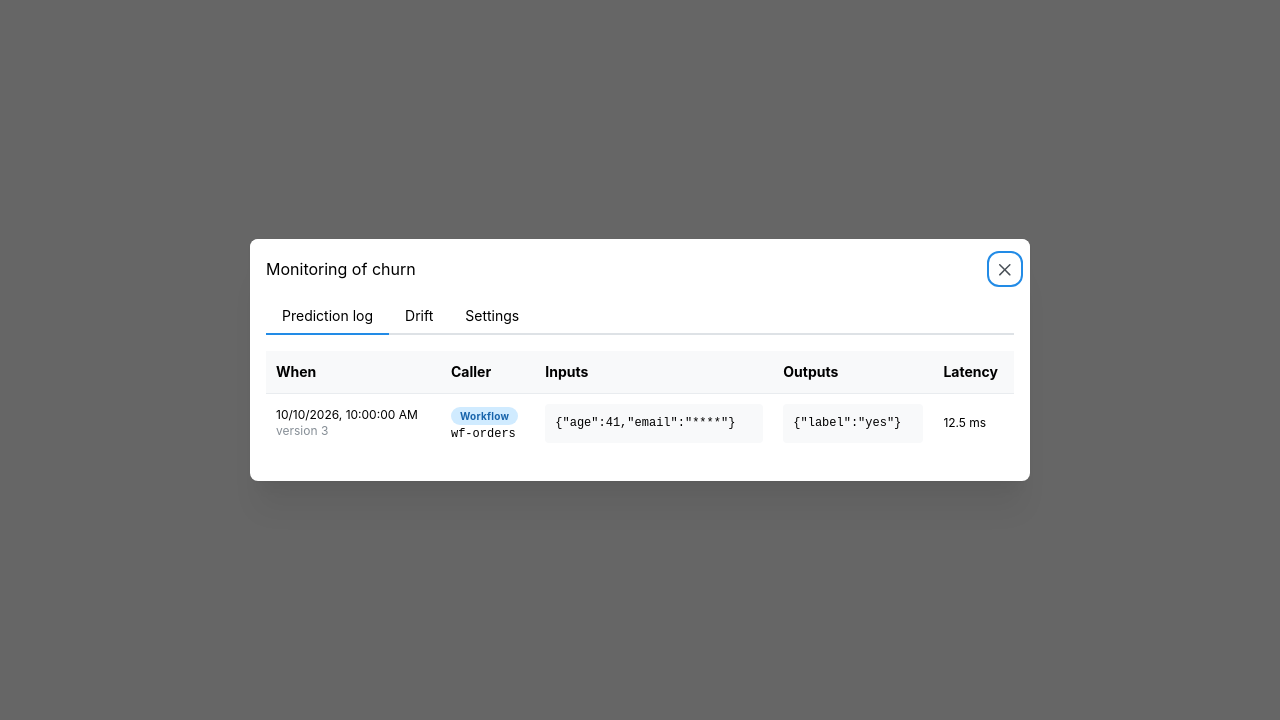
Test: Model monitoring › says why there is no drift report yet
Click the tab "Drift" at [419, 317], box [389,299,449,335]
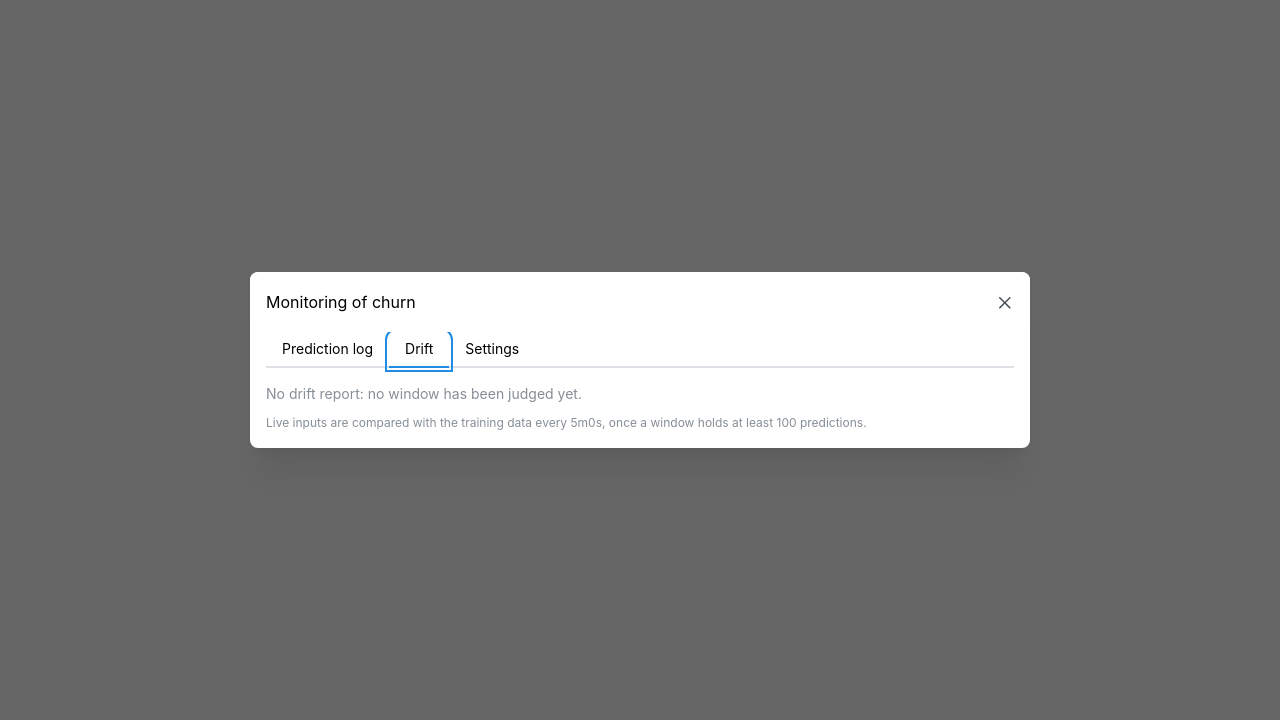
Now the text "No drift report: no window has been judged yet." is shown, box [266,386,582,402]
